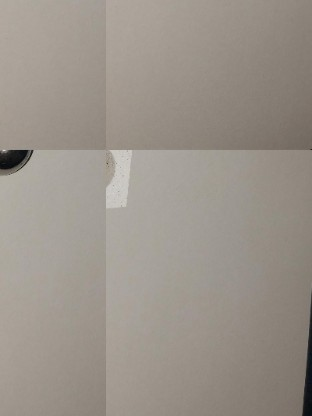ironball: (0, 149, 34, 177)
